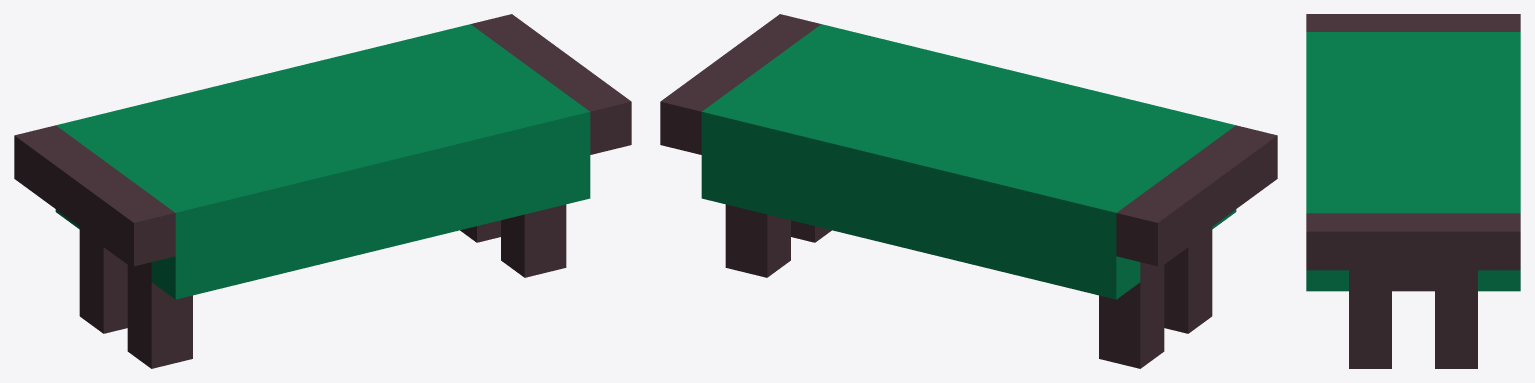
The model's file is large_bench_c_green.obj.
3 views of the same model, side by side, from view 1: azimuth 30°, elevation 25°; view 2: azimuth 150°, elevation 25°; view 3: azimuth 270°, elevation 25° (orthographic). The views are drawn at different scales.
Bounding box in the file's own units: 1.2 × 0.4 × 0.5.
Materials: 1 (1 with a texture image).
